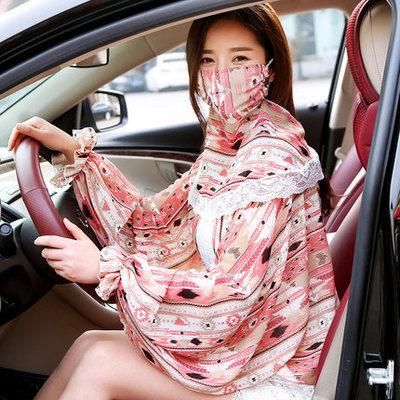OK: (189, 38, 266, 115)
